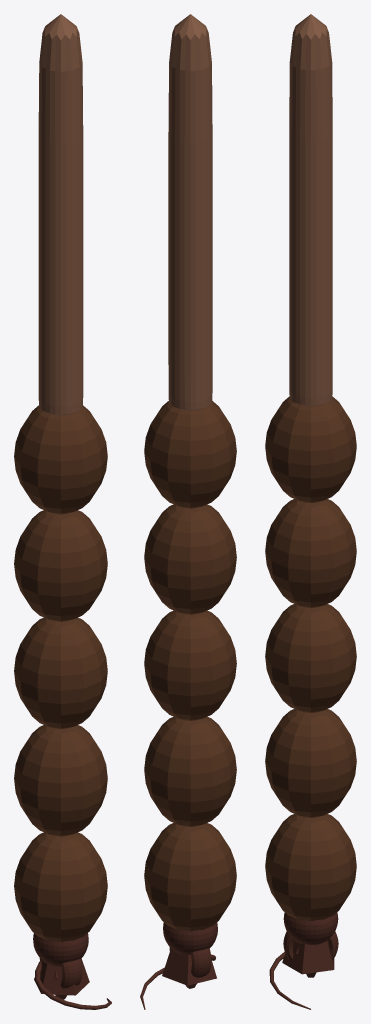
Rendered from Wand 217.glb.
The picture shows the model from 3 angles, left to right: view 1: azimuth 30°, elevation 25°; view 2: azimuth 210°, elevation 25°; view 3: azimuth 270°, elevation 25°; orthographic projection. The views are drawn at different scales.
Parts seen in each view (by area): view 1: GeneratedWand, Pommel_4, Pommel_9, Pommel_10, Pommel_2; view 2: GeneratedWand, Pommel_4, Pommel_9, Pommel_2; view 3: GeneratedWand, Pommel_9, Pommel_4, Pommel_2, Pommel_10.
Boxes of the visible parts, x1,y1,x2,y2 form: GeneratedWand: (14, 14, 107, 941); Pommel_4: (33, 933, 88, 966); Pommel_9: (34, 958, 89, 995); Pommel_10: (35, 960, 111, 1009); Pommel_2: (39, 958, 81, 988); GeneratedWand: (144, 14, 236, 931); Pommel_4: (163, 922, 217, 954); Pommel_9: (162, 948, 216, 985); Pommel_2: (169, 947, 211, 977); GeneratedWand: (265, 14, 356, 920); Pommel_9: (282, 940, 334, 974); Pommel_4: (283, 912, 338, 944); Pommel_2: (283, 931, 338, 960); Pommel_10: (269, 951, 310, 1009).
Bounding box in the file's own units: 0.0481 × 0.5262 × 0.0449.
